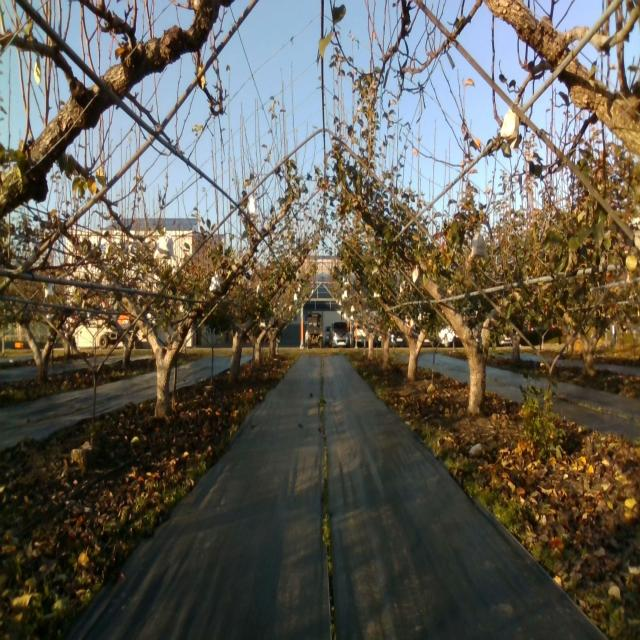pearbags: (500, 108, 519, 152), (153, 231, 174, 261), (471, 233, 488, 259), (208, 272, 222, 292)
